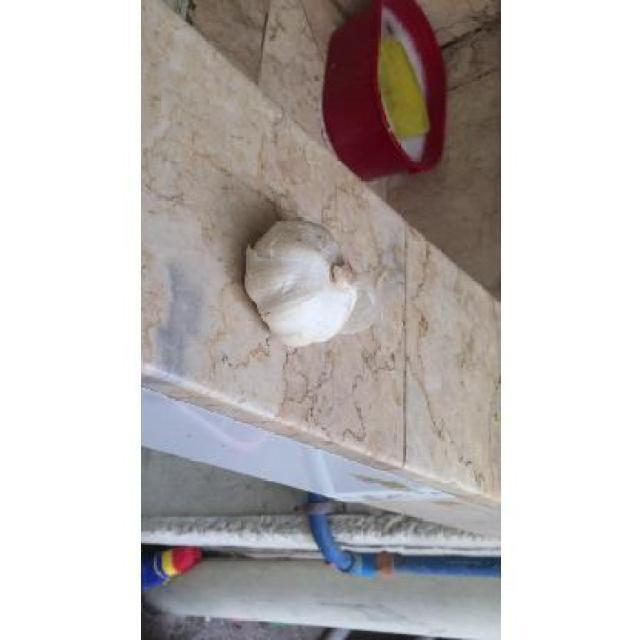garlic: (245, 221, 356, 347)
